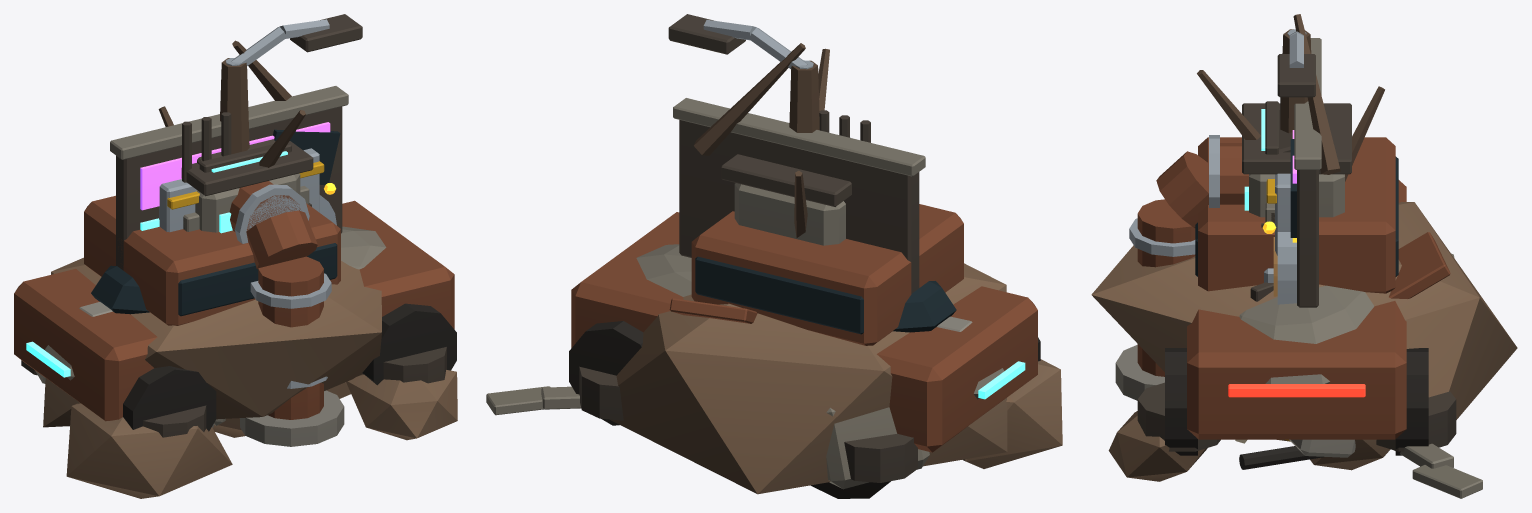
Rendered from doodads.glb.
The picture shows the model from 3 angles, left to right: view 1: azimuth 30°, elevation 25°; view 2: azimuth 150°, elevation 25°; view 3: azimuth 270°, elevation 25°; orthographic projection. The views are drawn at different scales.
Visible parts, largest first — view 1: wreck, rocks_b, wallpipe, billboard, hovercar, vending, walldoor, dead_tree, streetlamp, wallpanel, rocks_a; view 2: wreck, rocks_b, billboard, hovercar, vending, dead_tree, streetlamp, crates, tire_pile, wallpanel; view 3: wreck, rocks_b, hovercar, wallpipe, billboard, vending, dead_tree, walldoor, streetlamp, shopfront, rocks_a, cables (+2 smaller).
Part boxes in pixels (x1=…): wreck: x1=14, y1=195, x2=456, y2=431; rocks_b: x1=43, y1=257, x2=457, y2=498; wallpipe: x1=229, y1=181, x2=344, y2=446; billboard: x1=110, y1=86, x2=348, y2=270; hovercar: x1=21, y1=226, x2=446, y2=437; vending: x1=181, y1=141, x2=313, y2=233; walldoor: x1=159, y1=143, x2=336, y2=232; dead_tree: x1=158, y1=40, x2=305, y2=167; streetlamp: x1=225, y1=14, x2=362, y2=65; wallpanel: x1=182, y1=112, x2=231, y2=182; rocks_a: x1=213, y1=382, x2=350, y2=437; wreck: x1=541, y1=204, x2=1040, y2=452; rocks_b: x1=610, y1=263, x2=1062, y2=494; billboard: x1=673, y1=98, x2=925, y2=293; hovercar: x1=486, y1=244, x2=1025, y2=482; vending: x1=721, y1=154, x2=851, y2=245; dead_tree: x1=694, y1=43, x2=829, y2=237; streetlamp: x1=668, y1=14, x2=813, y2=69; crates: x1=826, y1=407, x2=929, y2=489; tire_pile: x1=810, y1=481, x2=890, y2=498; wallpanel: x1=819, y1=110, x2=870, y2=142; wreck: x1=1165, y1=137, x2=1453, y2=468; rocks_b: x1=1091, y1=202, x2=1517, y2=481; hovercar: x1=1137, y1=232, x2=1482, y2=498; wallpipe: x1=1115, y1=135, x2=1248, y2=400; billboard: x1=1290, y1=38, x2=1321, y2=307; vending: x1=1242, y1=103, x2=1351, y2=217; dead_tree: x1=1197, y1=14, x2=1384, y2=181; walldoor: x1=1261, y1=101, x2=1290, y2=255; streetlamp: x1=1277, y1=29, x2=1315, y2=97; shopfront: x1=1273, y1=232, x2=1296, y2=304; rocks_a: x1=1277, y1=439, x2=1390, y2=470; cables: x1=1239, y1=446, x2=1323, y2=469.
Bounding box in the file's own units: 1.97 × 1.76 × 1.55.
